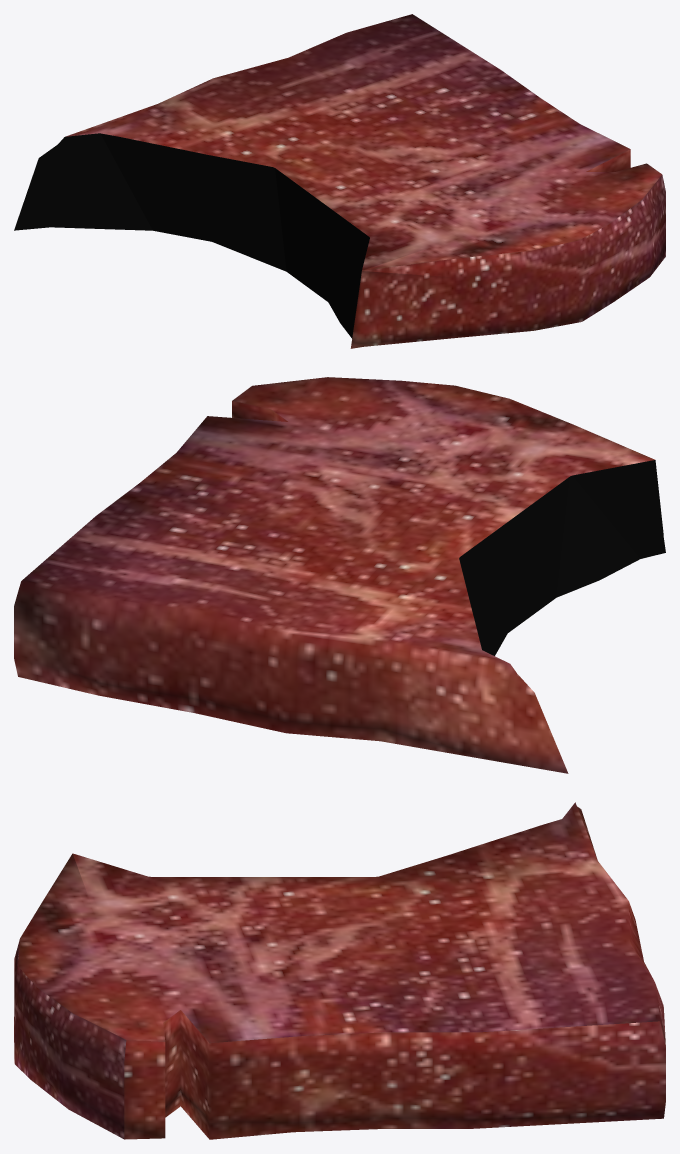
Rendered from Meat.fbx.
3 views of the same model, one above another, from view 1: azimuth 30°, elevation 25°; view 2: azimuth 150°, elevation 25°; view 3: azimuth 270°, elevation 25° (orthographic). The views are drawn at different scales.
Visible parts, largest first — view 1: Plane; view 2: Plane; view 3: Plane.
Boxes of the visible parts, left/top/right/bottom form: Plane: left=14, top=14, right=665, bottom=348; Plane: left=14, top=377, right=665, bottom=773; Plane: left=14, top=802, right=665, bottom=1139.
Size of the model in its own units: 567 by 99.51 by 580.
